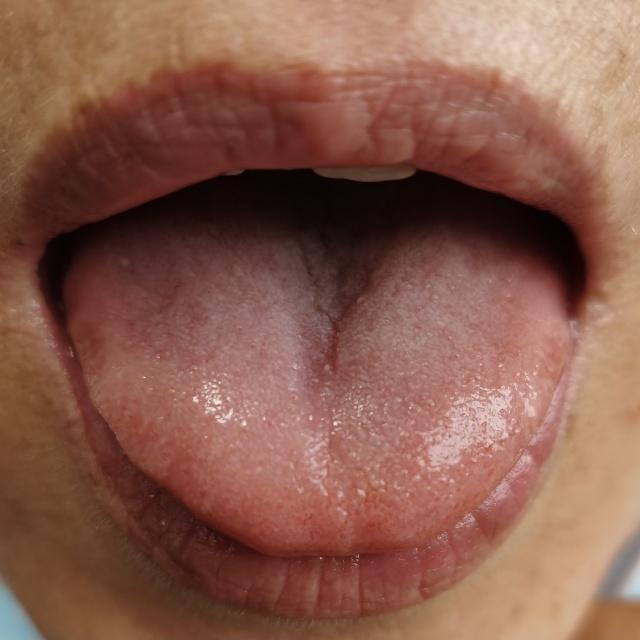baitaishe: (64, 230, 574, 560)
chihenshe: (64, 311, 153, 471)
hongshe: (62, 228, 572, 558)
piweiao: (268, 230, 413, 384)
